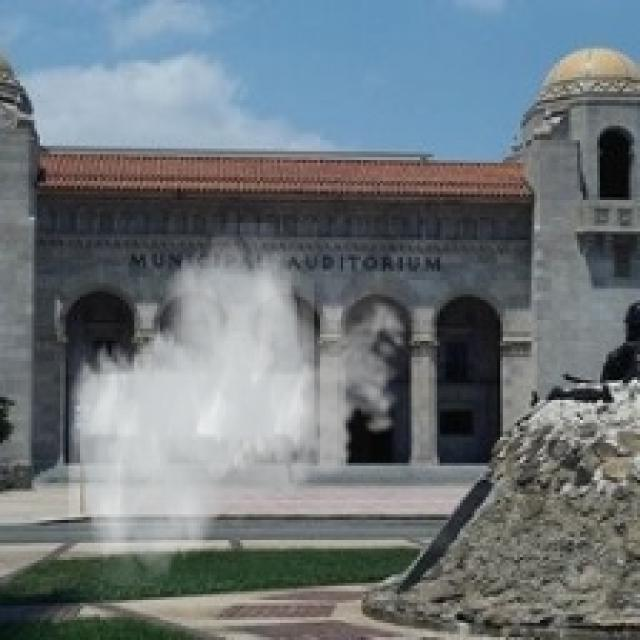smoke: (69, 223, 417, 586)
